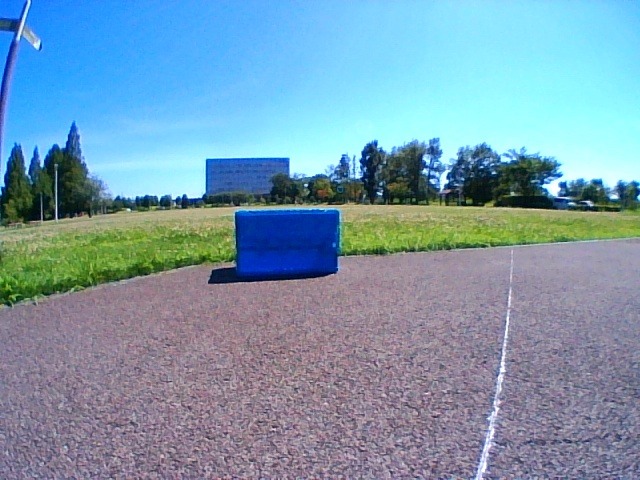blue_box: (235, 209, 338, 277)
